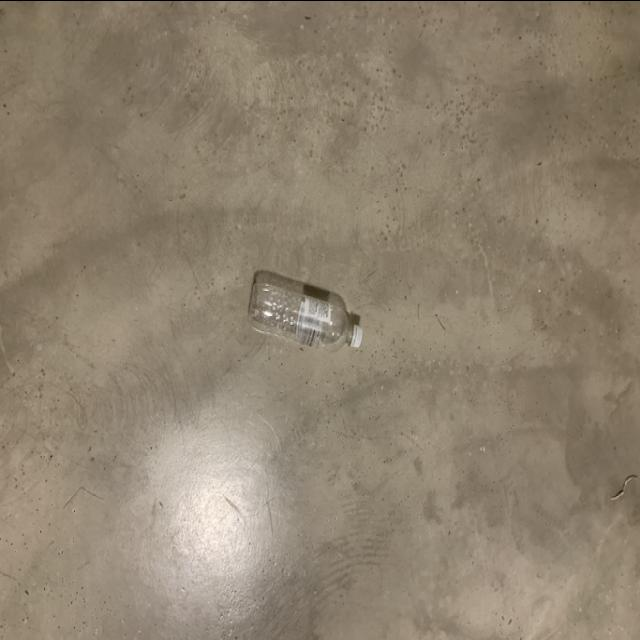PET: (246, 270, 370, 358)
